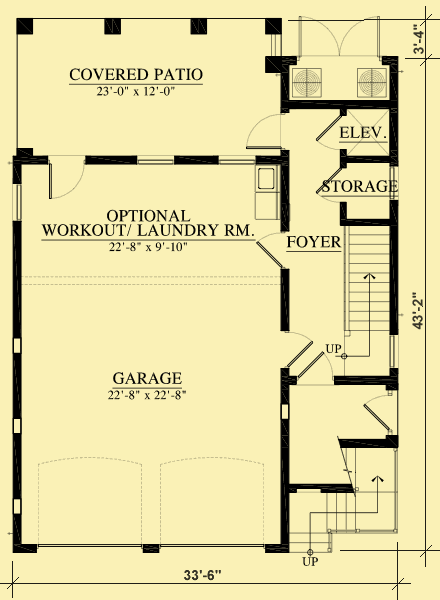door: (294, 11, 383, 62), (239, 113, 283, 154), (255, 226, 290, 274), (49, 157, 86, 198), (361, 393, 397, 433), (297, 352, 339, 383), (311, 115, 346, 151), (281, 332, 313, 371), (314, 167, 345, 202)
stairs: (289, 447, 402, 558), (339, 224, 389, 380)
window: (136, 153, 176, 170), (12, 183, 26, 226), (214, 154, 254, 166), (388, 332, 400, 372)
